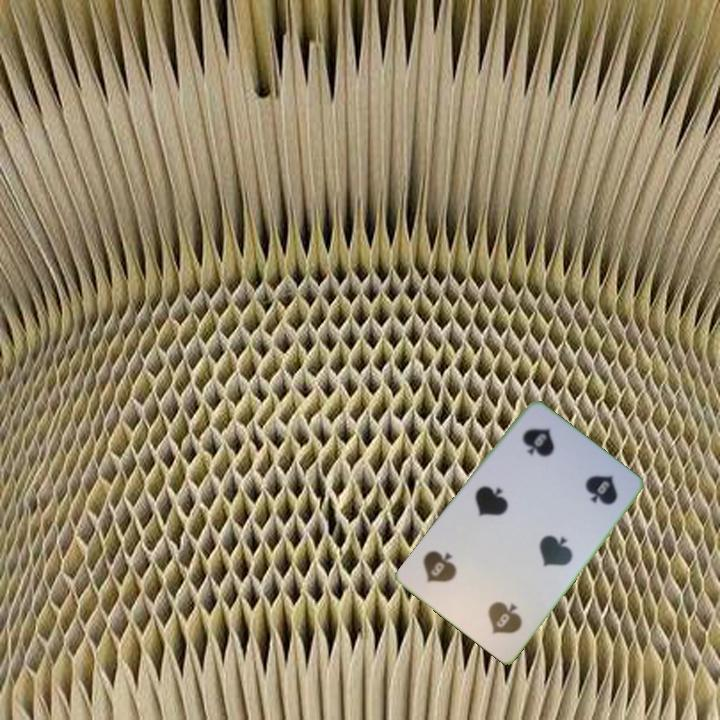s_6.png: (499, 409, 585, 493), (455, 568, 541, 652)
